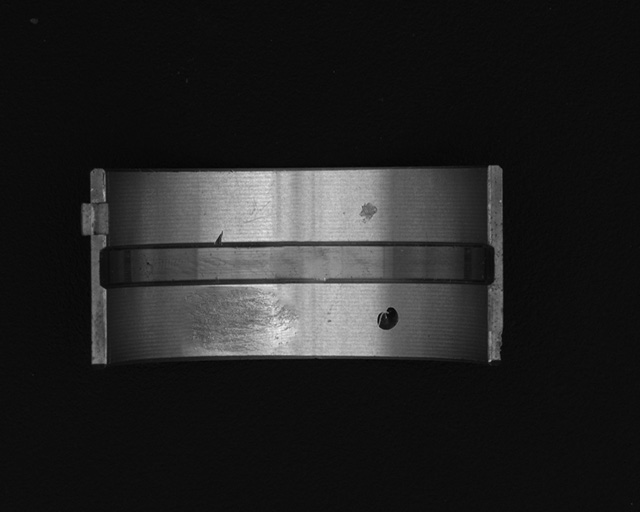blot: (378, 305, 399, 332)
bruise: (359, 201, 380, 226), (216, 230, 224, 244)
gap: (96, 243, 497, 287)
scratch: (184, 287, 299, 355)
